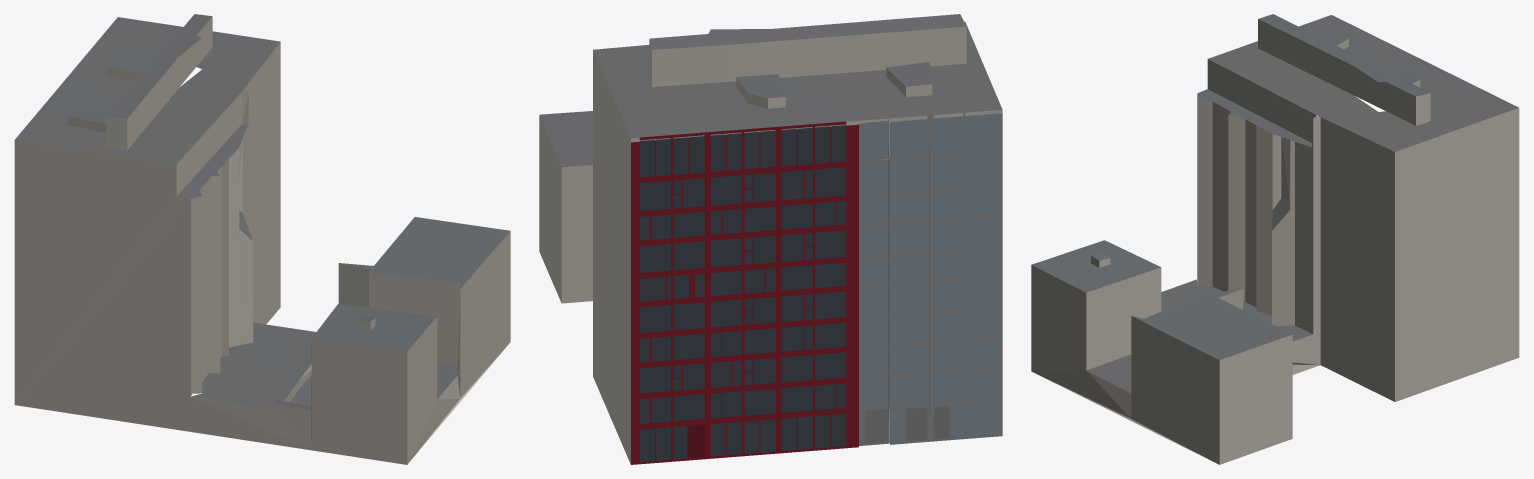
File: haparandaweg-952-1002.lod1.glb
3 renders of one model, left to right at view 1: azimuth 30°, elevation 25°; view 2: azimuth 150°, elevation 25°; view 3: azimuth 270°, elevation 25°, orthographic. The views are drawn at different scales.
Visible parts, largest first — view 1: haparandaweg-952-1002; view 2: haparandaweg-952-1002; view 3: haparandaweg-952-1002.
Boxes of the visible parts, bbox=[...] form: haparandaweg-952-1002: bbox=[14, 14, 510, 464]; haparandaweg-952-1002: bbox=[539, 14, 1002, 464]; haparandaweg-952-1002: bbox=[1031, 14, 1519, 464].
Size of the model in its own units: 49.53 by 32.22 by 50.94.
